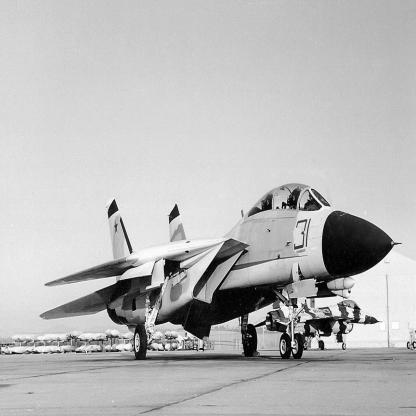F14: (40, 184, 403, 362)
F16: (255, 294, 383, 351)
